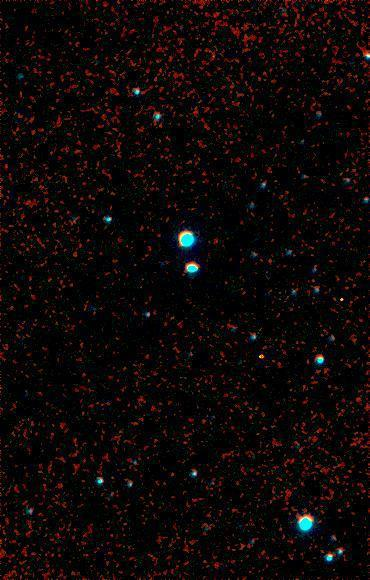star: (325, 286, 355, 316)
